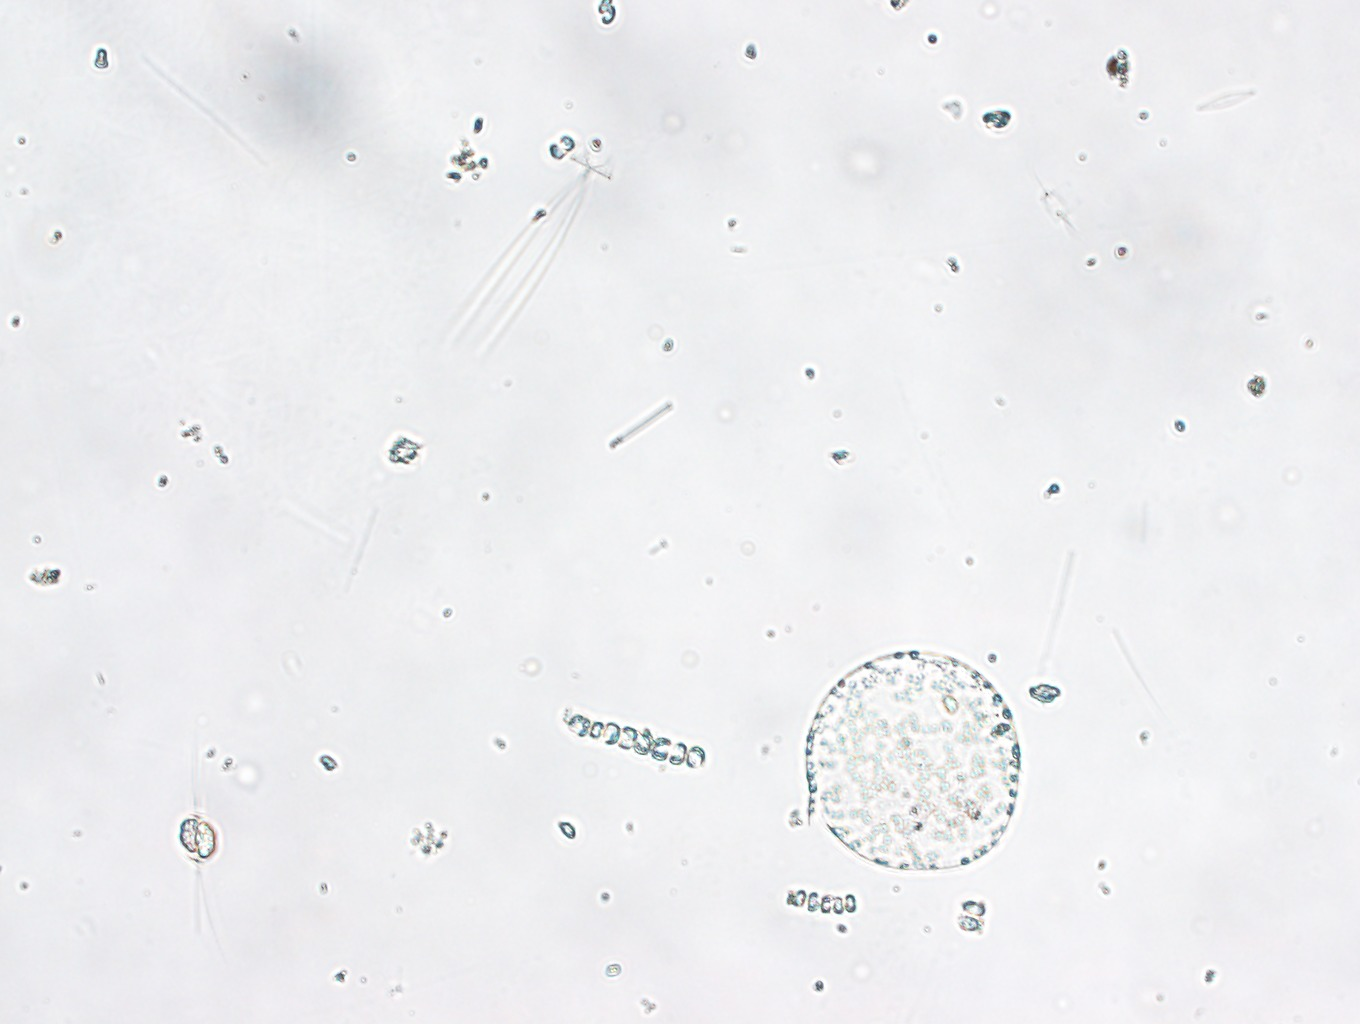coscinodiscus: (794, 641, 1025, 878)
